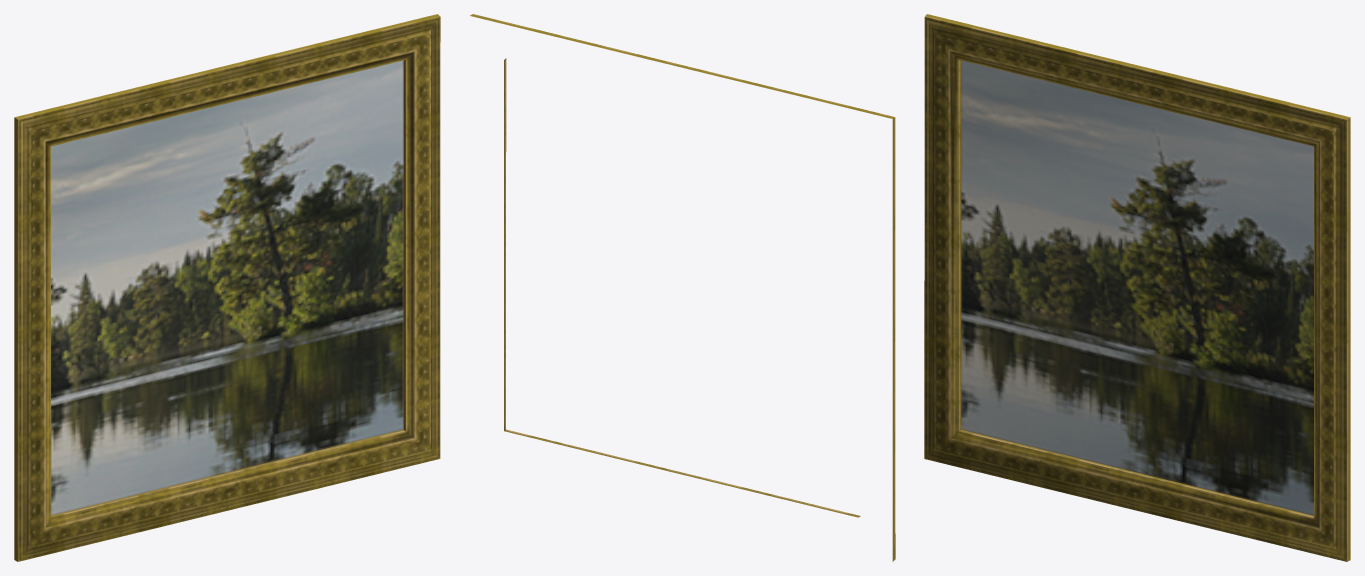
File: quadro3.glb
The picture shows the model from 3 angles, left to right: view 1: azimuth 30°, elevation 25°; view 2: azimuth 150°, elevation 25°; view 3: azimuth 330°, elevation 25°; orthographic projection.
Parts seen in each view (by area): view 1: Frame_1; view 2: Frame_1; view 3: Frame_1.
Boxes of the visible parts, x1,y1,x2,y2 form: Frame_1: (14, 14, 440, 561); Frame_1: (470, 14, 895, 561); Frame_1: (924, 14, 1350, 561).
Size of the model in its own units: 0.6924 by 0.6924 by 0.0125.
1 material, 1 textured.
